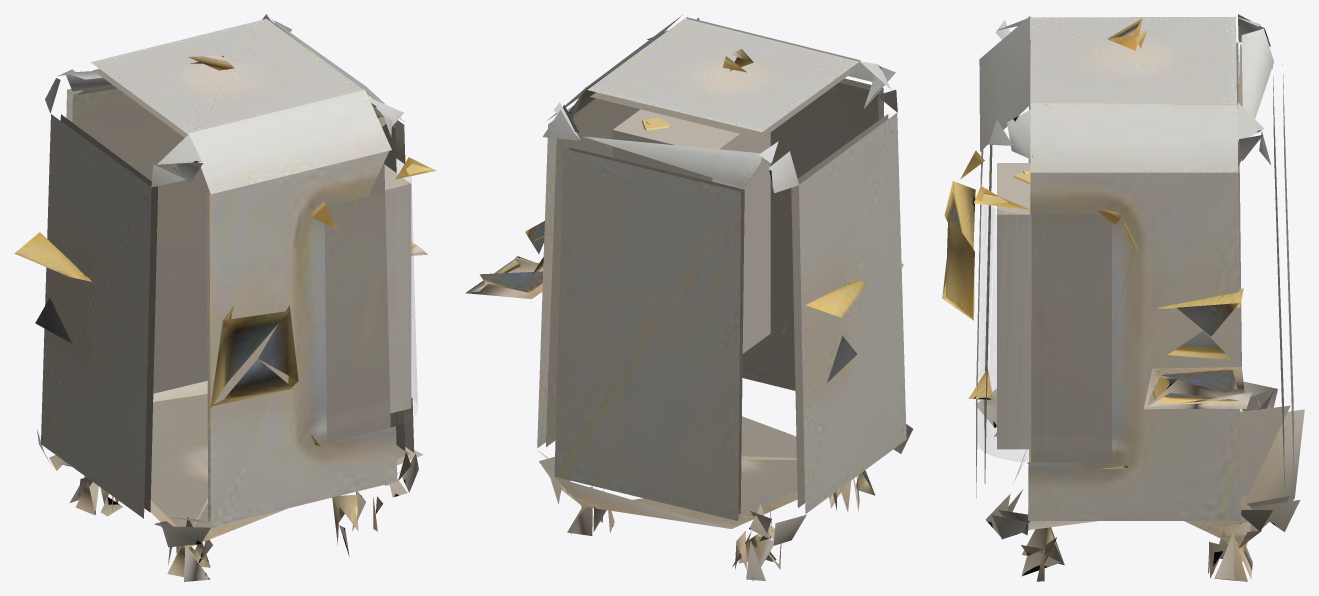
The model's file is assembler.lod1.glb.
The picture shows the model from 3 angles, left to right: view 1: azimuth 30°, elevation 25°; view 2: azimuth 150°, elevation 25°; view 3: azimuth 270°, elevation 25°; orthographic projection. The views are drawn at different scales.
Parts seen in each view (by area): view 1: assembler, glass, inside; view 2: assembler, inside; view 3: assembler, glass, inside.
Part boxes in pixels (<box>): assembler: <box>14,14,436,581</box>; glass: <box>325,160,417,442</box>; inside: <box>384,164,411,413</box>; assembler: <box>465,15,912,581</box>; inside: <box>612,109,770,353</box>; assembler: <box>942,14,1304,581</box>; glass: <box>978,205,1111,461</box>; inside: <box>997,163,1031,449</box>.
Bounding box in the file's own units: 1.59 × 1.96 × 1.27.
Materials: 5 (2 with a texture image).
